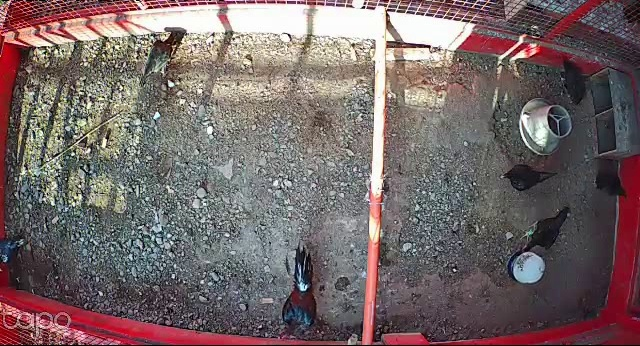Chicken: (519, 205, 571, 254), (499, 161, 558, 192), (138, 38, 176, 86), (557, 59, 587, 107), (591, 166, 629, 200)
Drinker: (507, 250, 546, 285)
Feeder: (519, 98, 573, 157)
Rooster: (278, 243, 318, 337)
